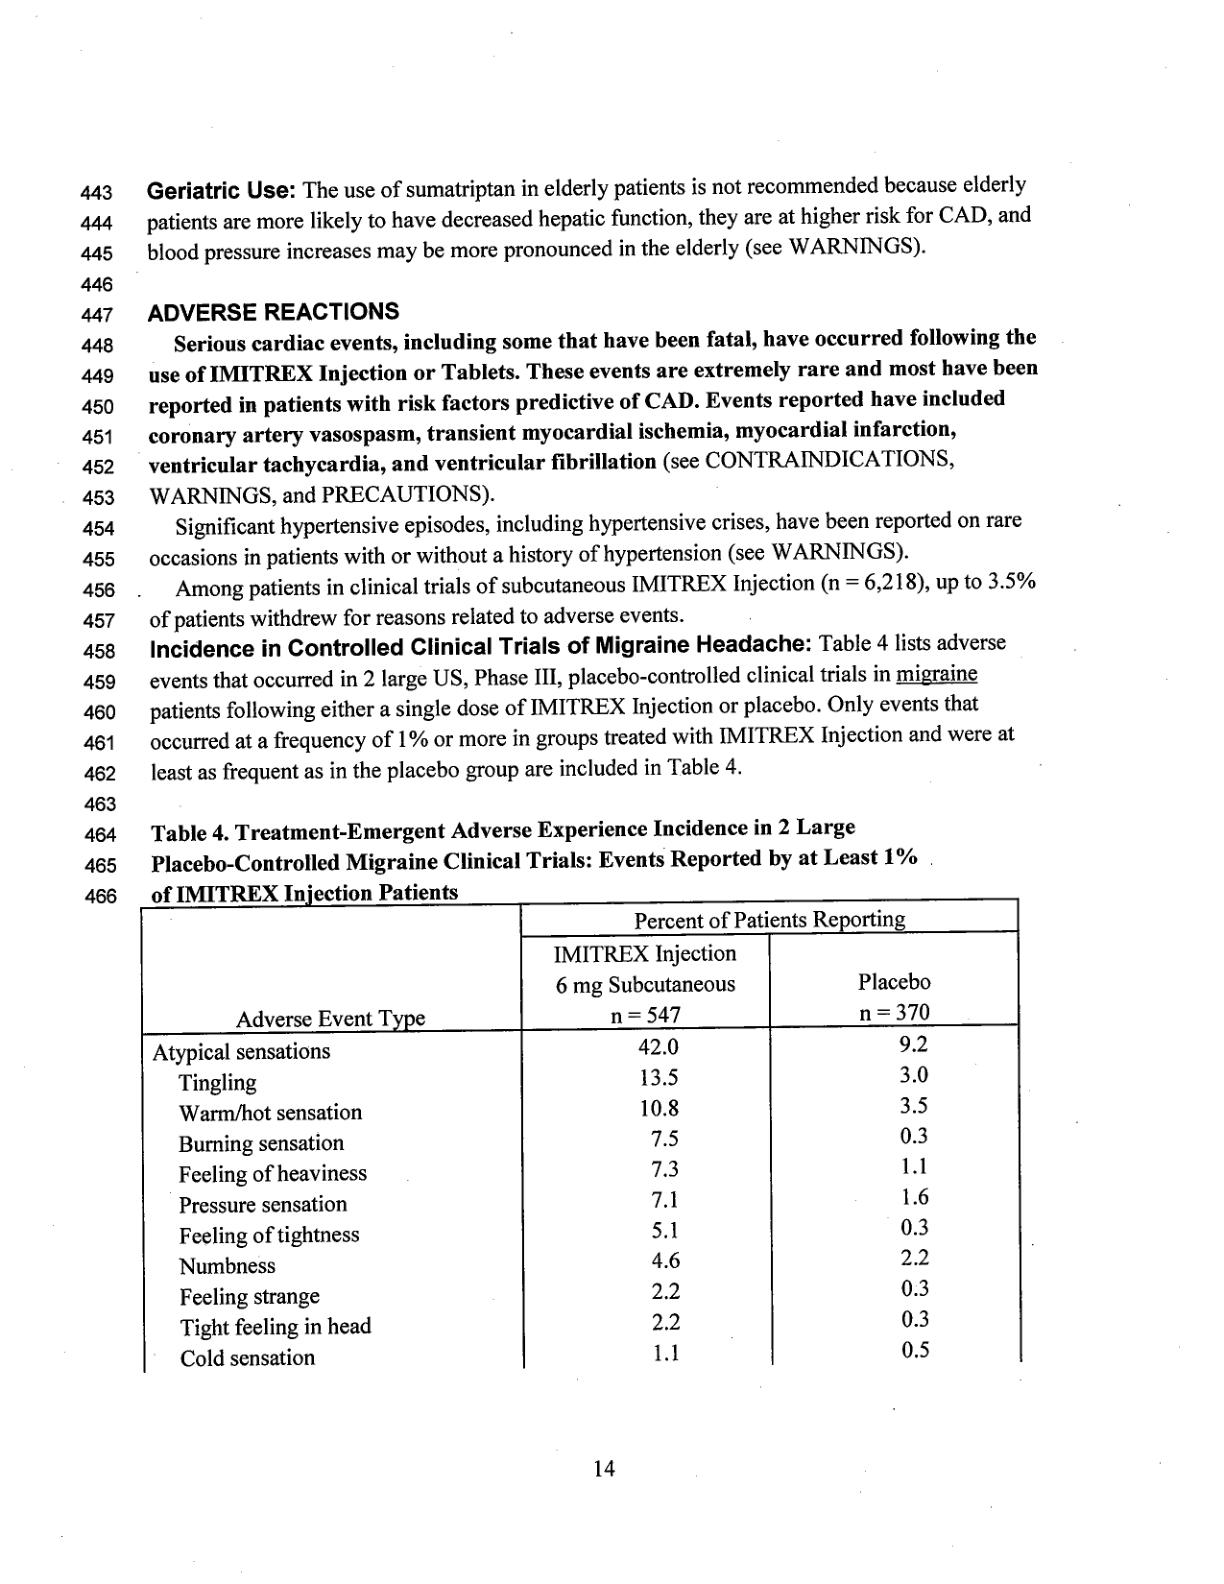partial_lined_merged_cells: (138, 897, 1023, 1374)
